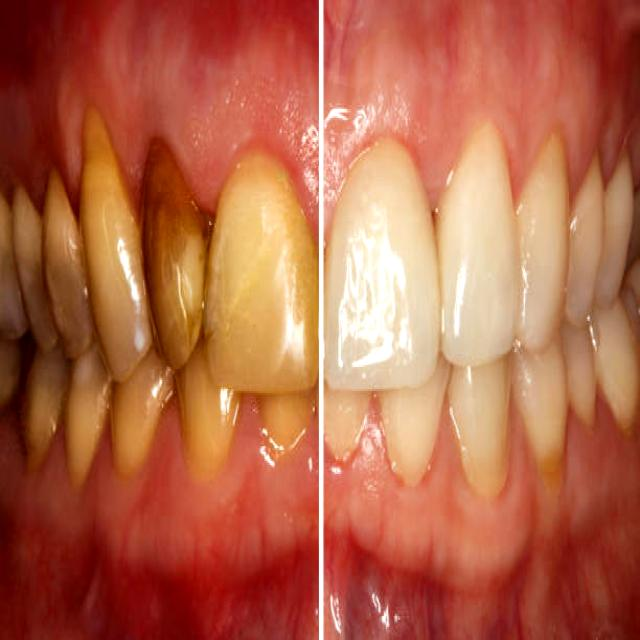gingivitis: (326, 417, 639, 638), (0, 4, 316, 203), (0, 446, 317, 638), (326, 4, 598, 197)
